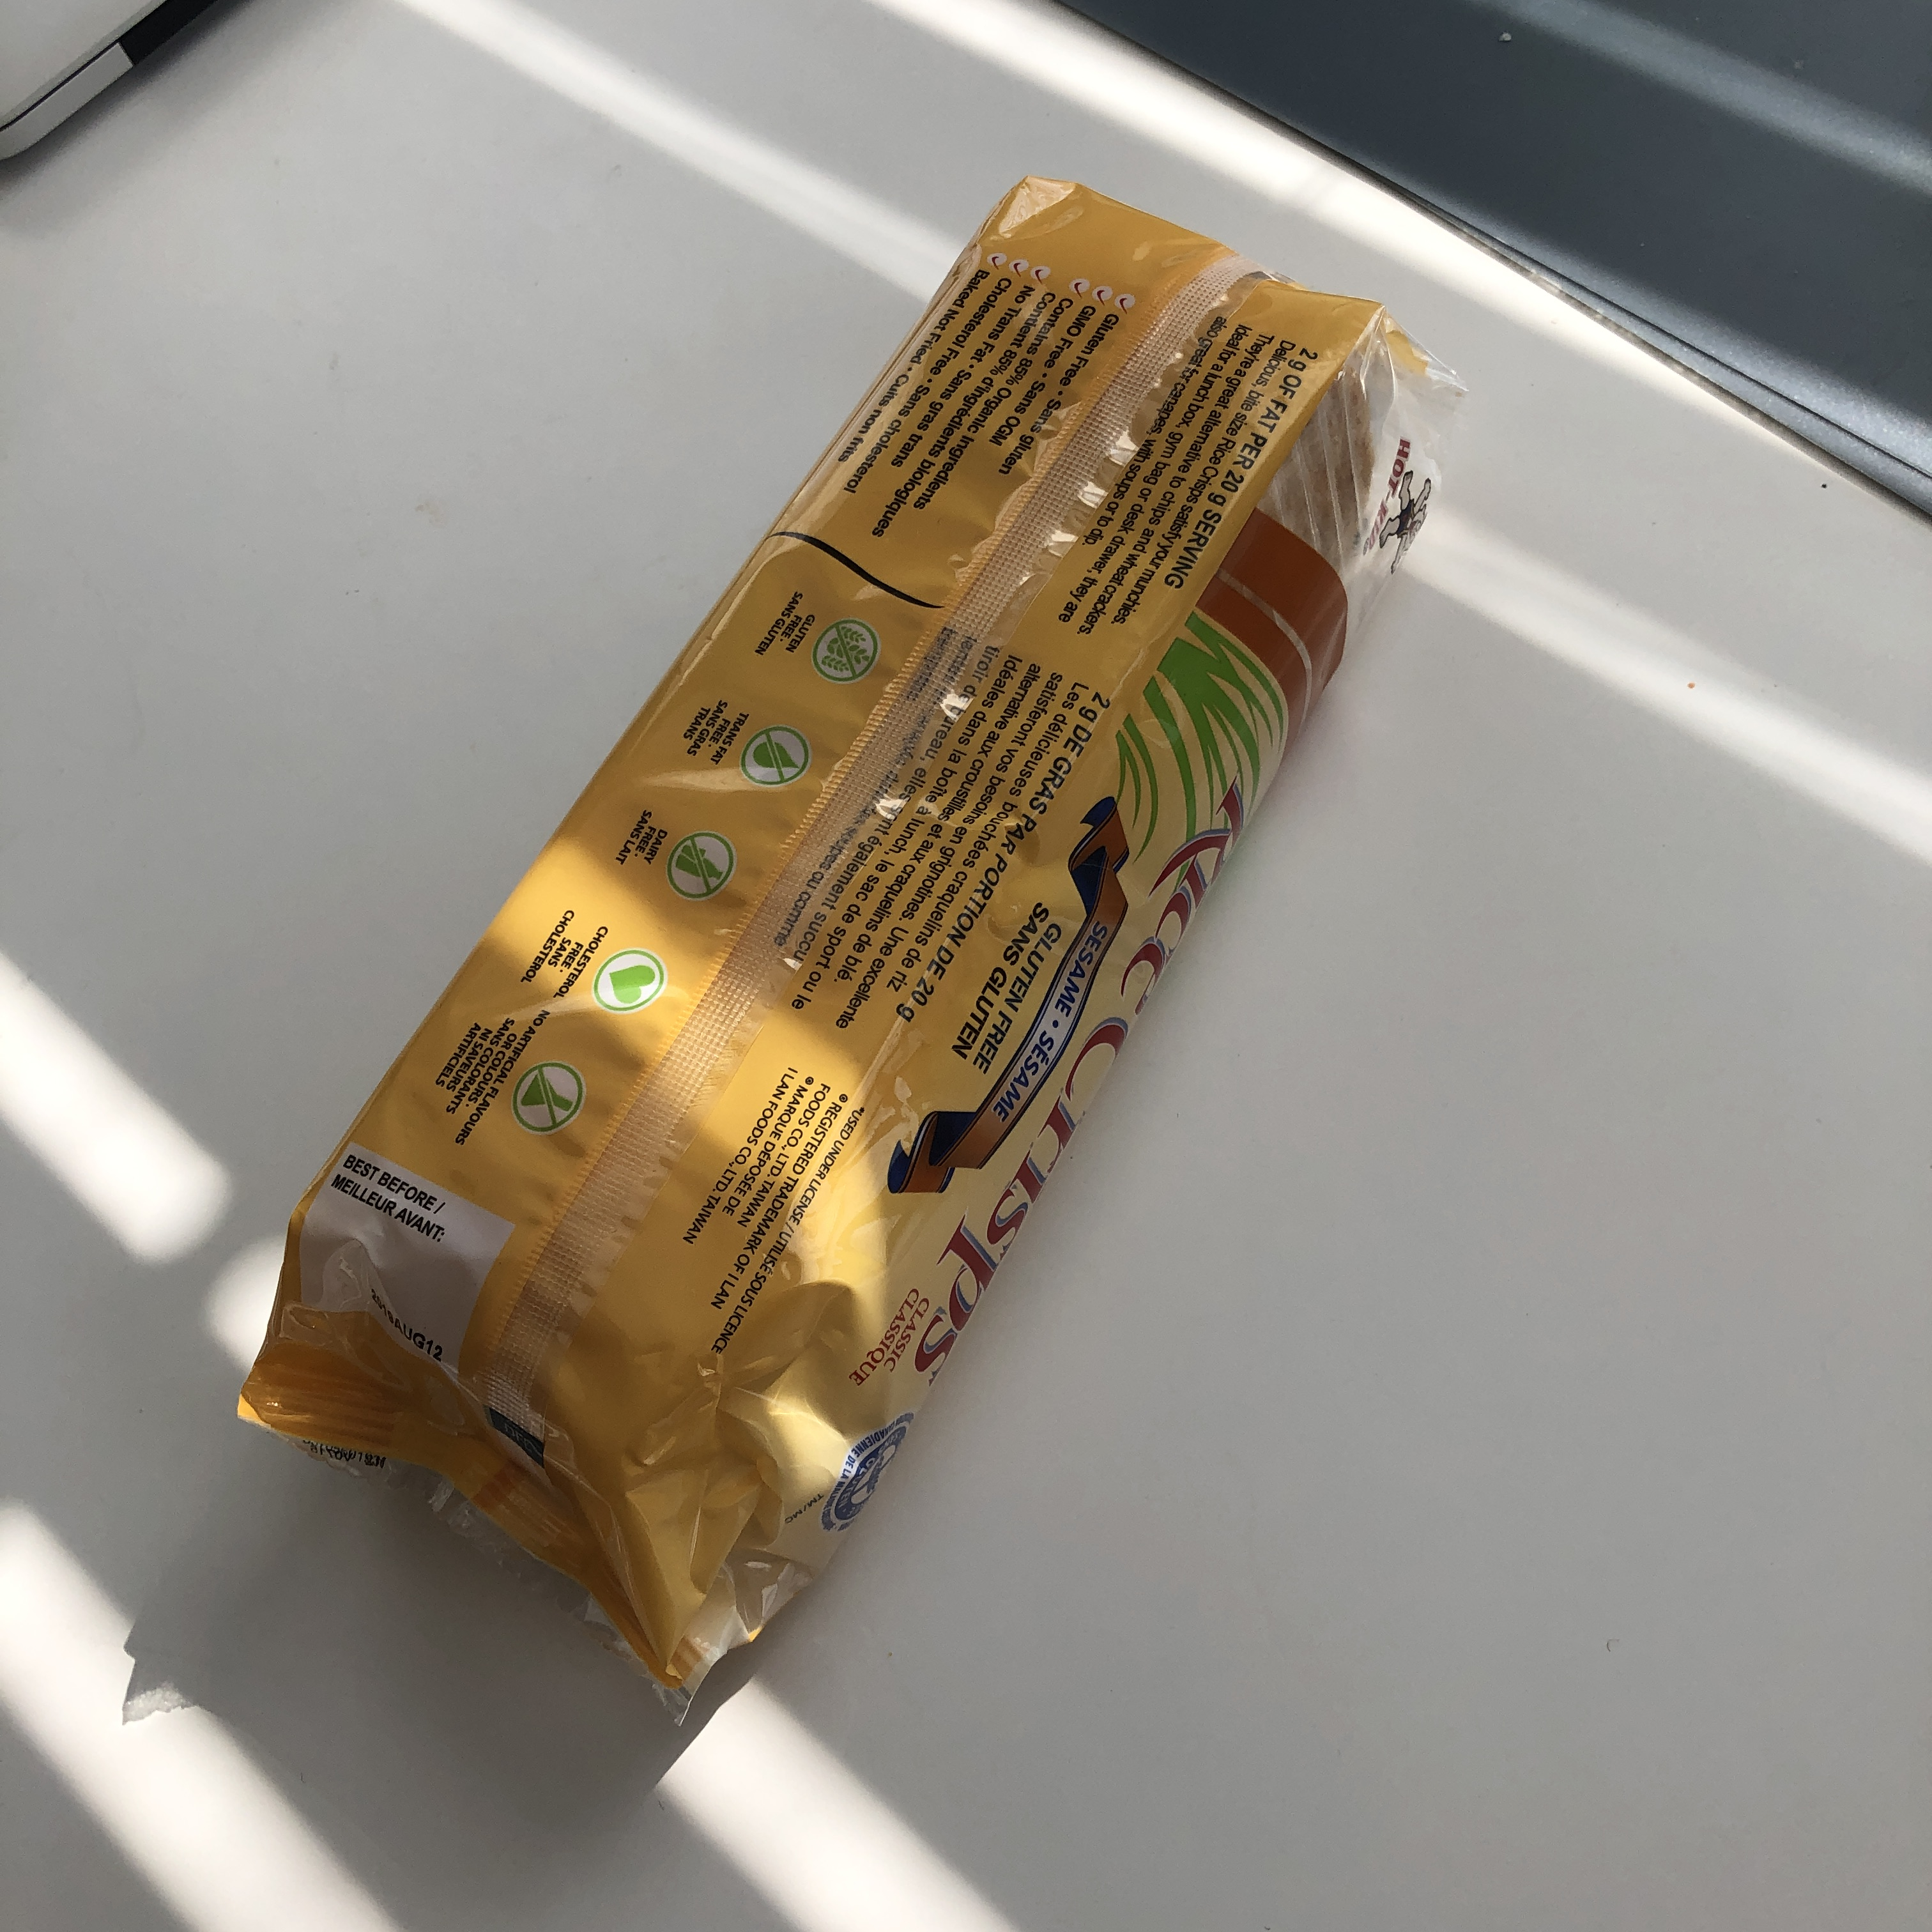hot_kid_rice_crisps_sesame: (298, 647, 1620, 1547)
